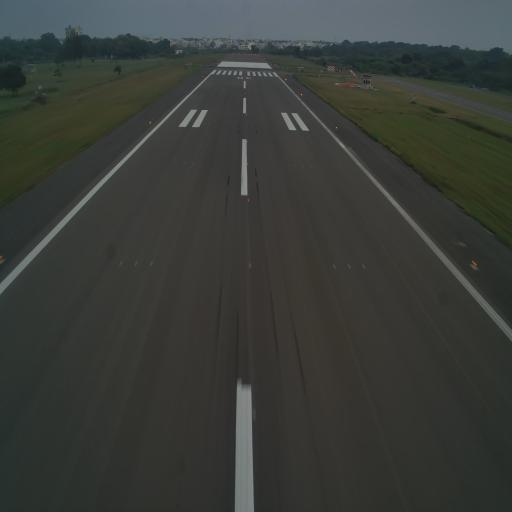off: (250, 401, 259, 429), (117, 258, 124, 270), (346, 259, 352, 271), (332, 262, 339, 272), (148, 257, 154, 268), (361, 260, 366, 272), (134, 258, 140, 267)
on: (468, 256, 480, 274), (0, 249, 7, 268), (246, 260, 253, 272), (245, 194, 251, 204)
